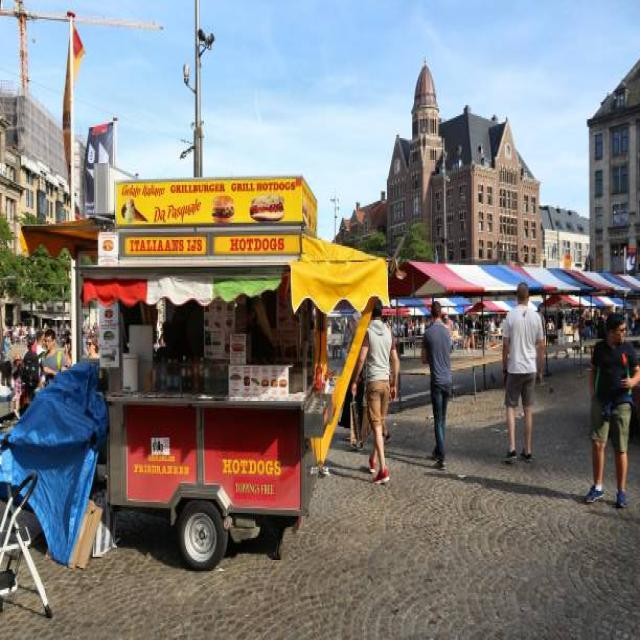Emperan: (70, 160, 393, 584)
